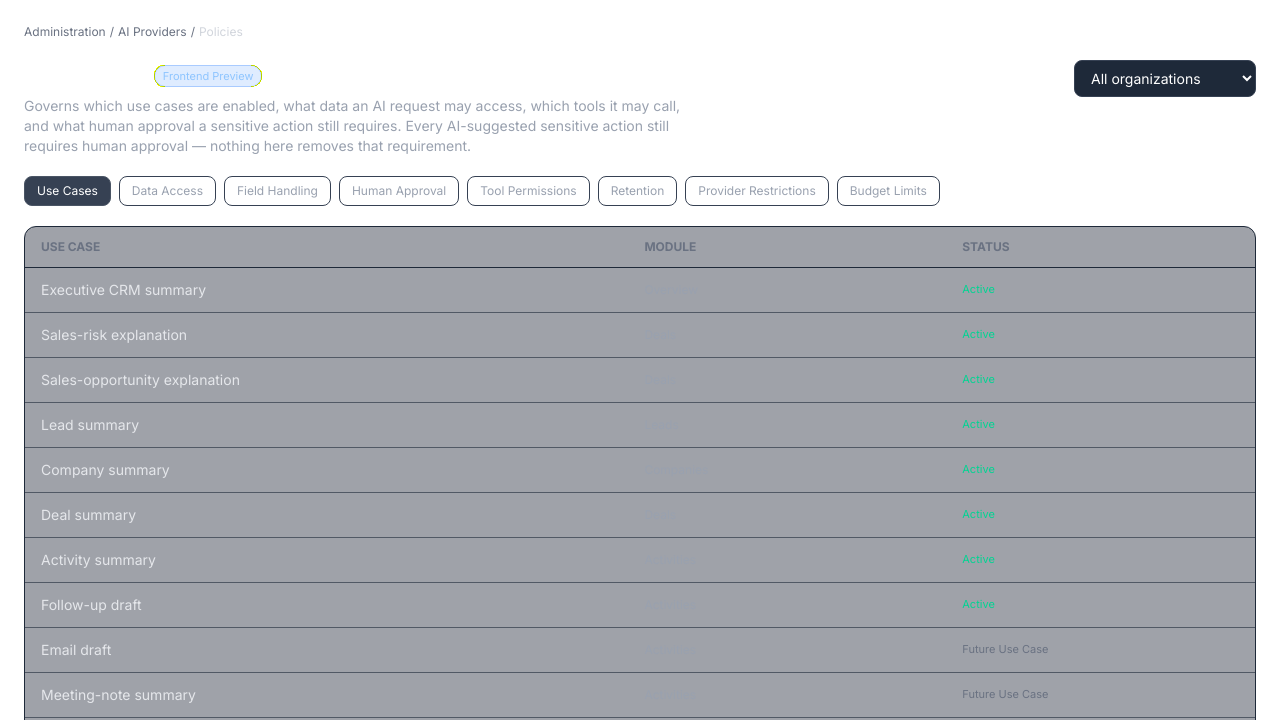
it: AiPolicyConfig › Human Approval tab lets a manager preview a separation-of-duties check that blocks self-approval
Click the tab "Human Approval" at x=399, y=191, box [339,176,459,206]
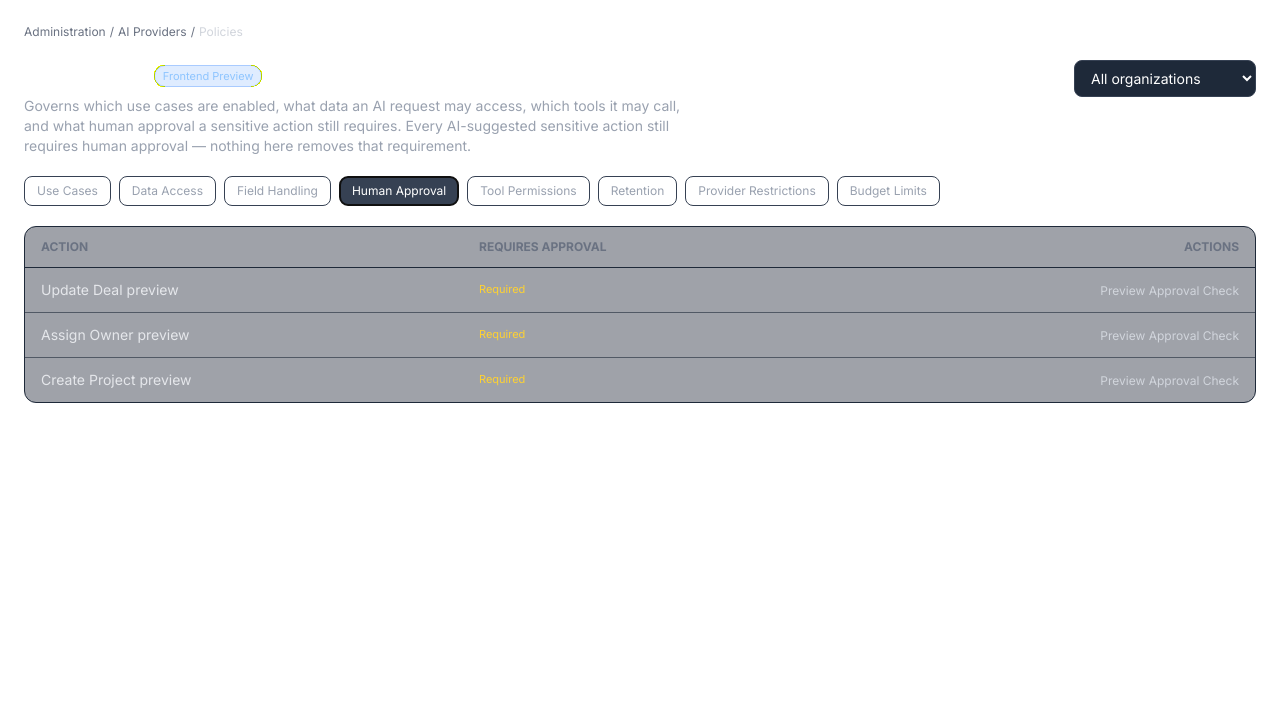
Click the button "Preview Approval Check" in the row of "Update Deal preview" at x=1170, y=291, box [1100,283,1239,299]
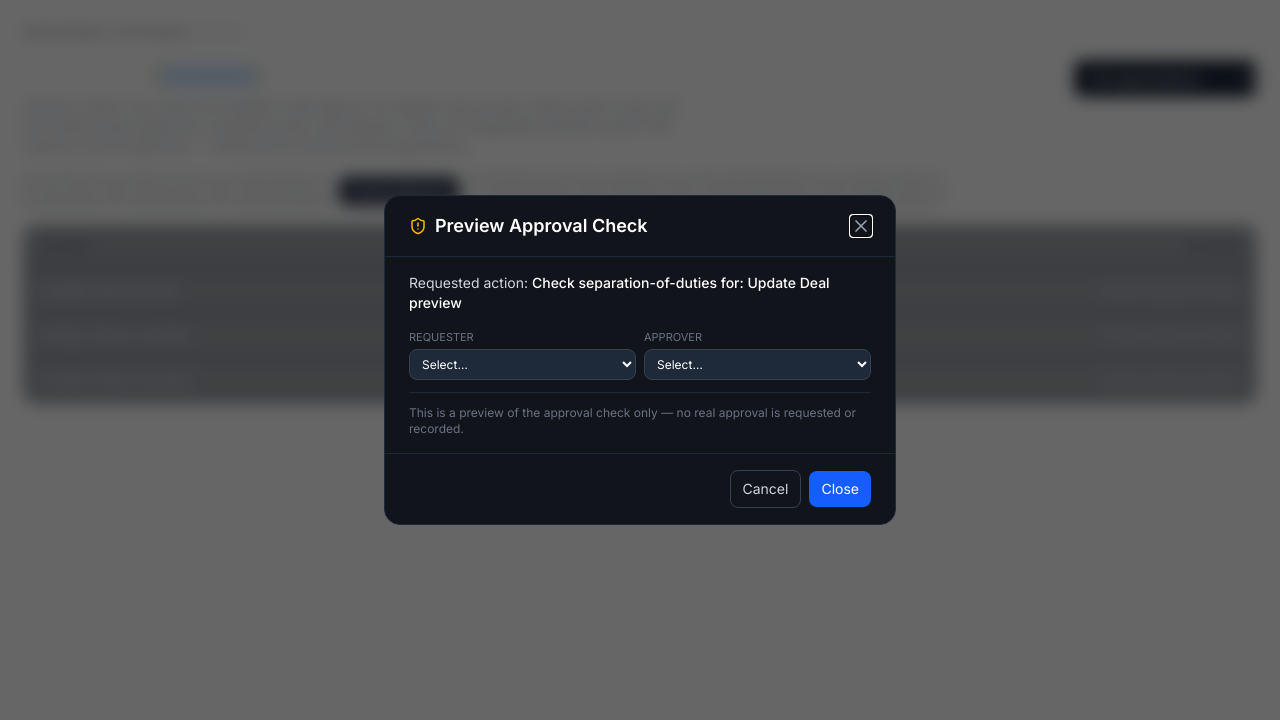
Select "Dominic Wuckert" in the dropdown labelled "Requester" at x=522, y=365, box [409,349,636,380]
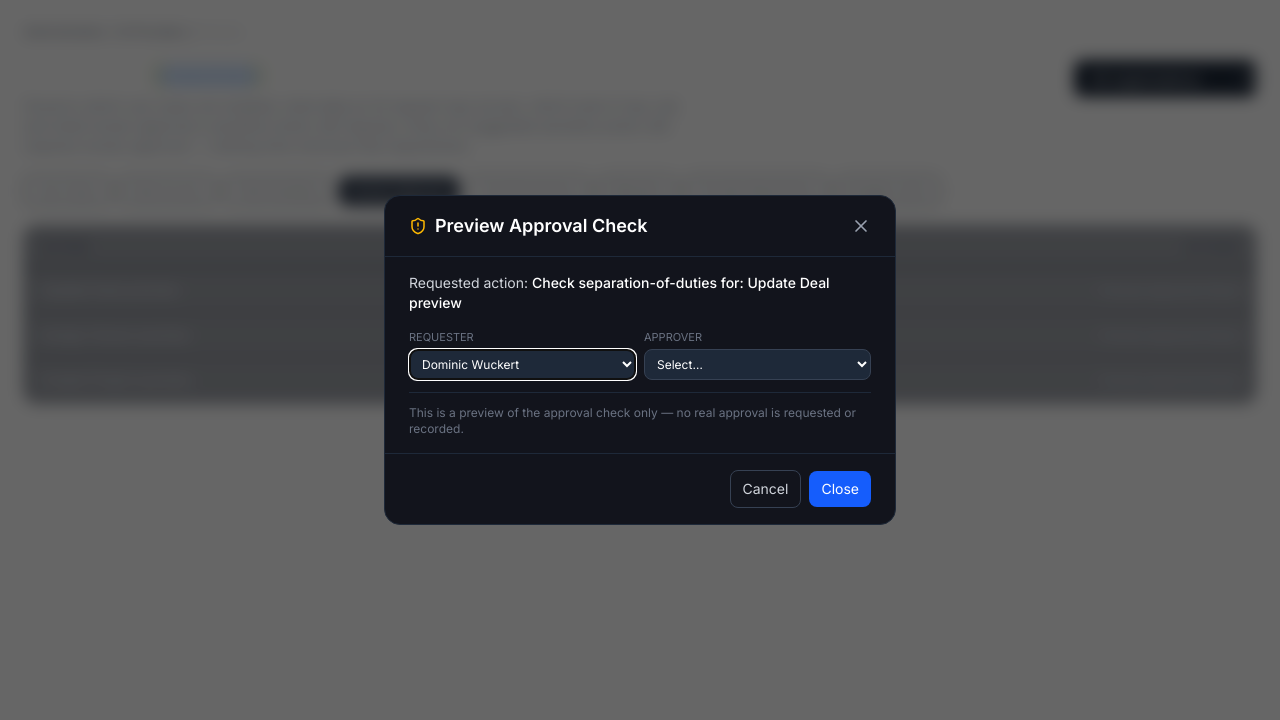
Select "Dominic Wuckert" in the dropdown labelled "Approver" at x=758, y=365, box [644,349,871,380]
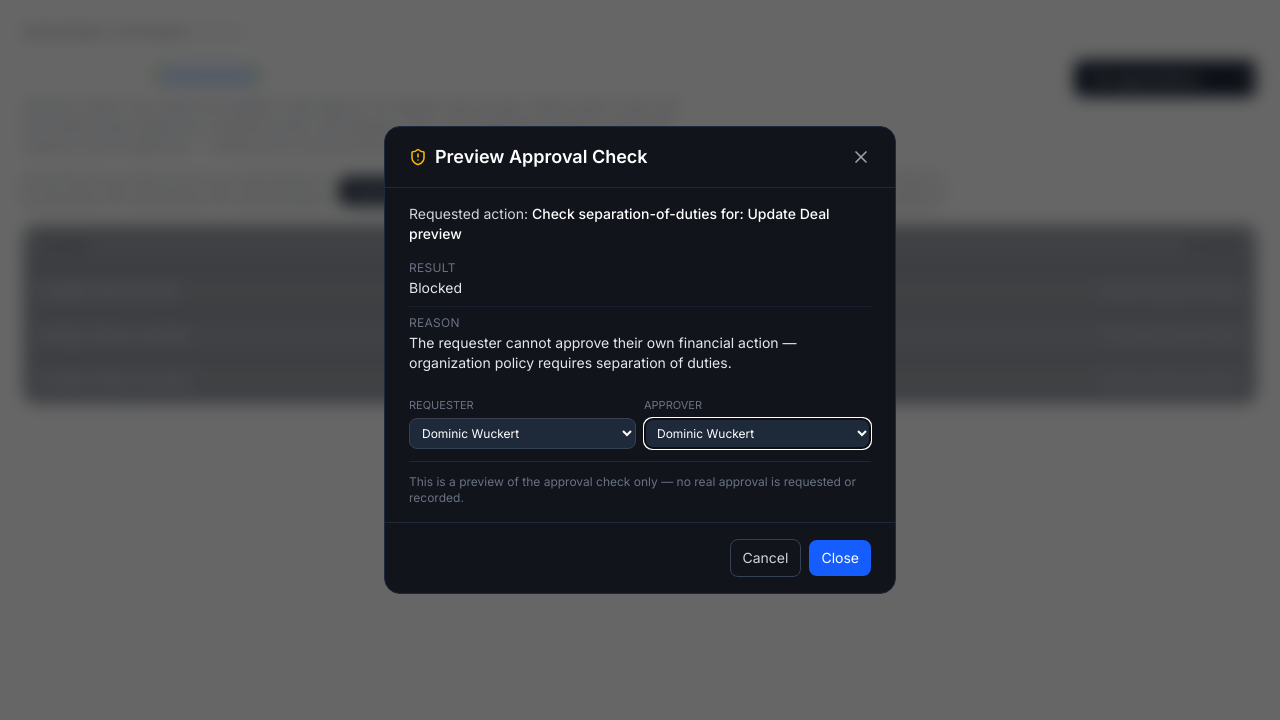
expect the dialog shows "Blocked": met, box [409,279,462,296]
